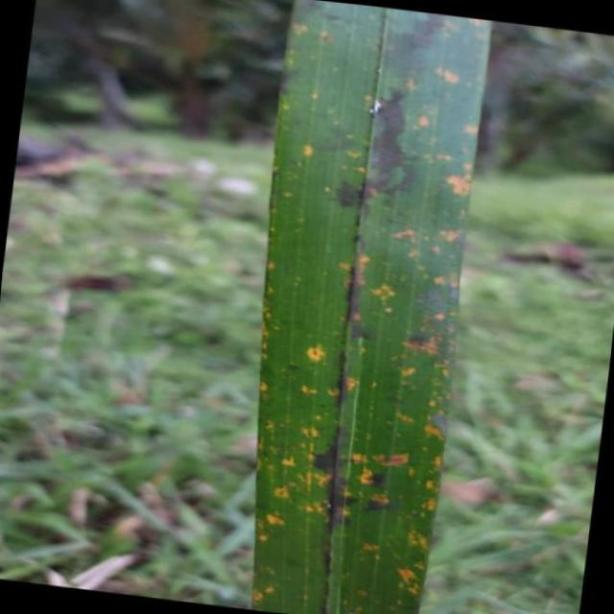Healthy: (249, 1, 489, 614)
